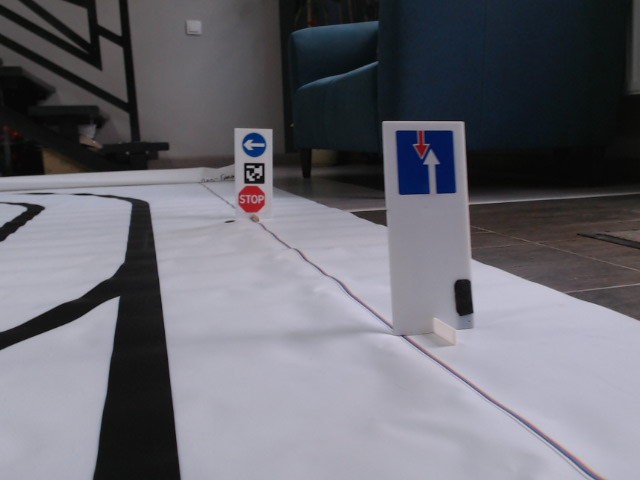Stop: (237, 184, 266, 214)
priority_movement: (395, 129, 458, 196)
